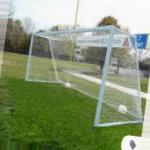goals: (25, 25, 144, 128)
